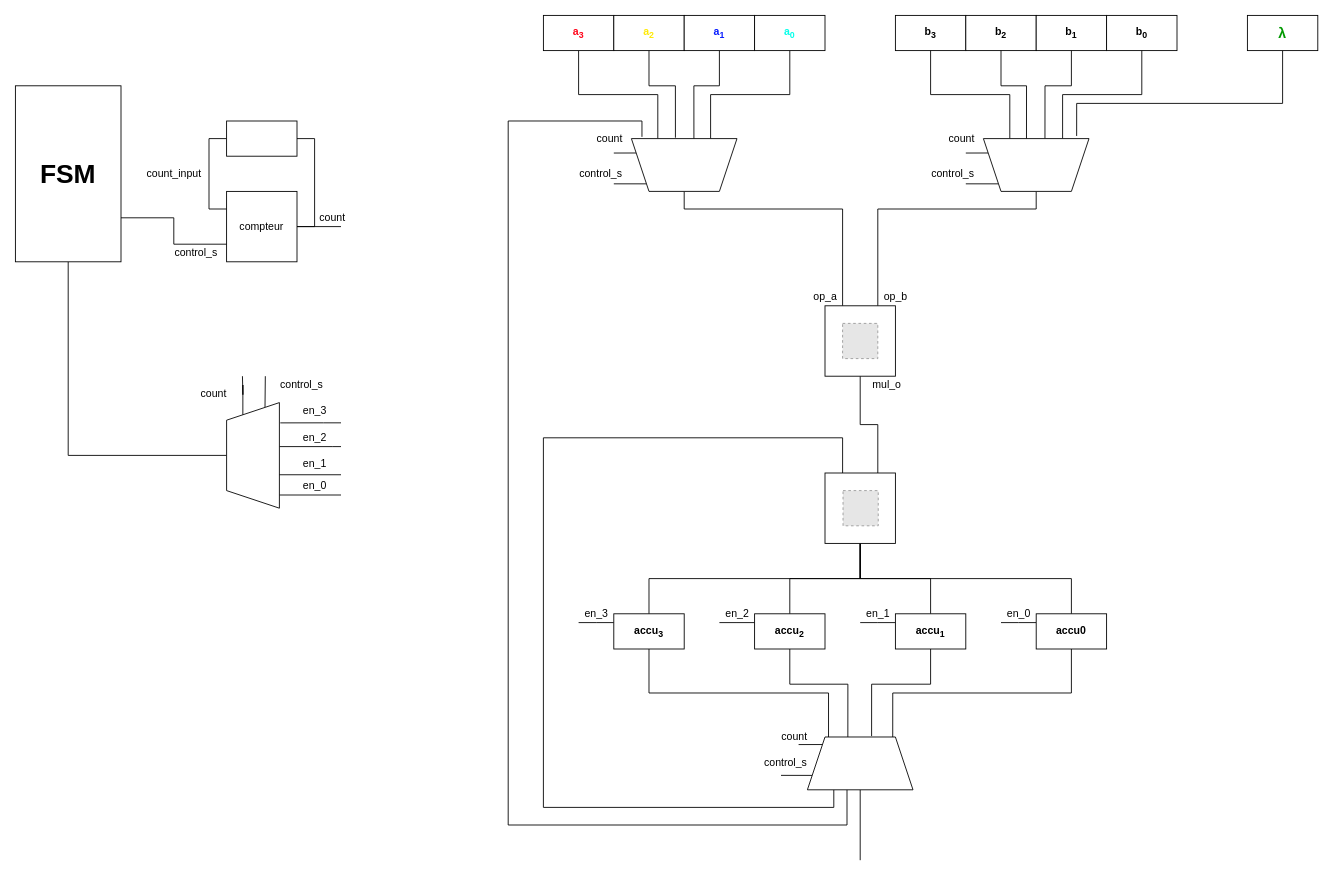
This 1333x876 diagram has some shape labels left out. Grey dashed boxes stand in for pictures. The centre of each missing label's shape, as x and y in pixels:
"accu_en" goes at point (252, 455).
"count_mem" goes at point (261, 138).
